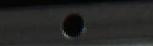holes: (60, 13, 86, 39)
